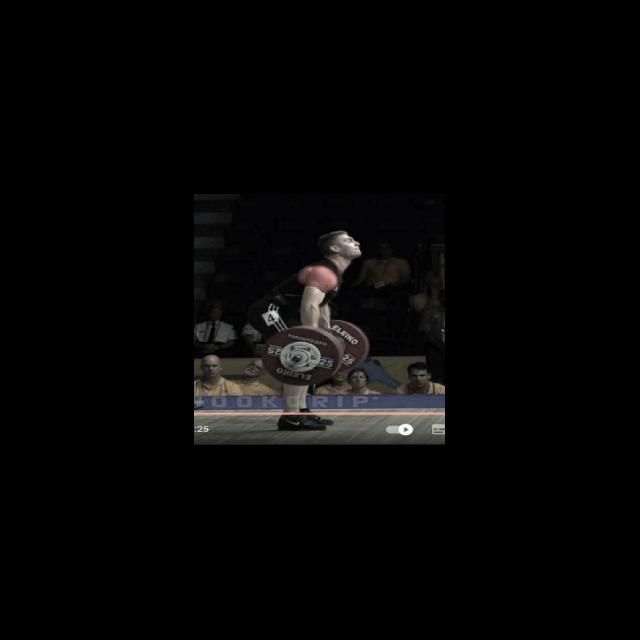barbell: (259, 323, 344, 388)
